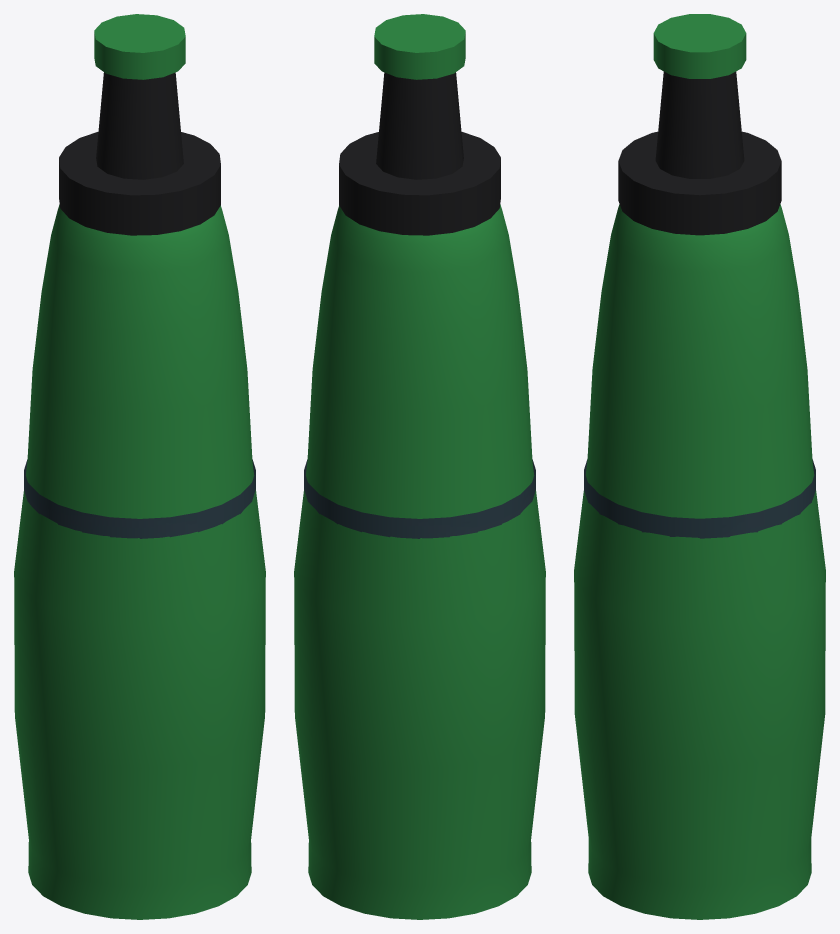
File: bottle_sport_bottle_squeeze.glb
3 views of the same model, side by side, from view 1: azimuth 30°, elevation 25°; view 2: azimuth 150°, elevation 25°; view 3: azimuth 270°, elevation 25° (orthographic).
Visible parts, largest first — view 1: bottle_sport_bottle_squeeze; view 2: bottle_sport_bottle_squeeze; view 3: bottle_sport_bottle_squeeze.
Boxes of the visible parts, bbox=[...] form: bottle_sport_bottle_squeeze: bbox=[14, 14, 265, 919]; bottle_sport_bottle_squeeze: bbox=[294, 14, 545, 919]; bottle_sport_bottle_squeeze: bbox=[574, 14, 825, 919].
Bounding box in the file's own units: 0.0679 × 0.2506 × 0.0679.
3 materials, 1 textured.
